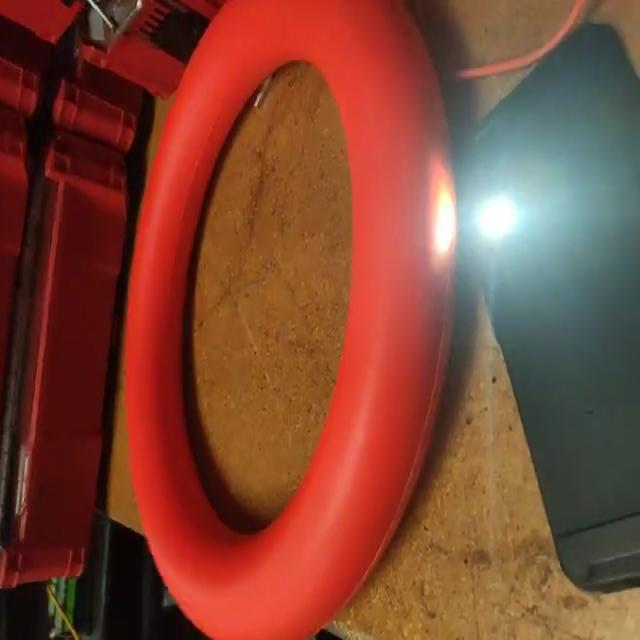note: (121, 0, 462, 640)
